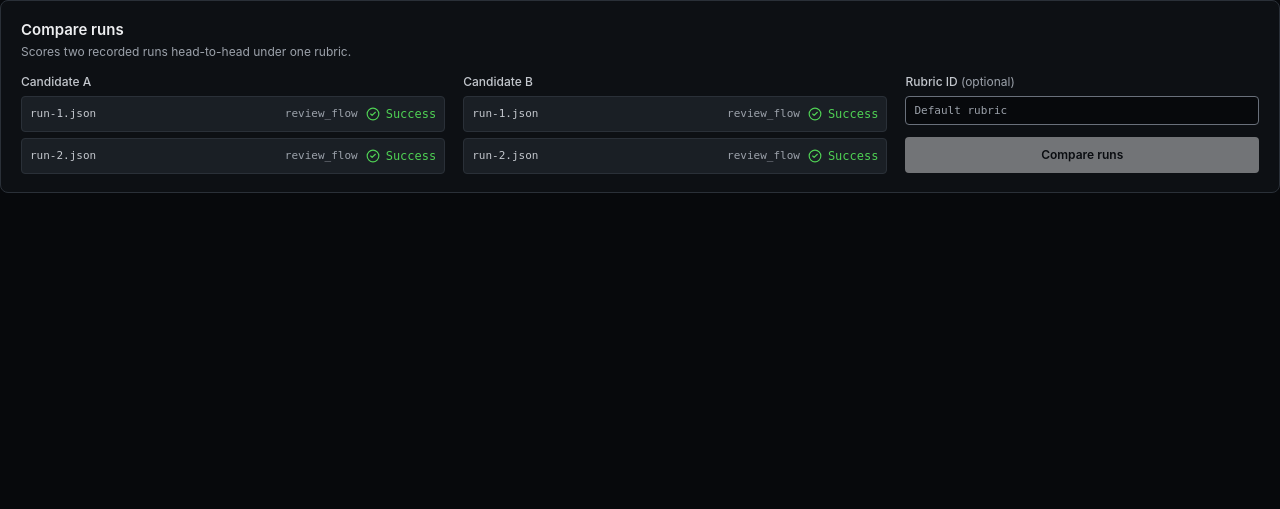
RunComparePanel › renders a tie with both candidates neutral
The width and height of the screenshot is (1280, 509).
Click the button with aria-label "pick run-1.json for candidate A": (63, 114) [21,96,445,132]
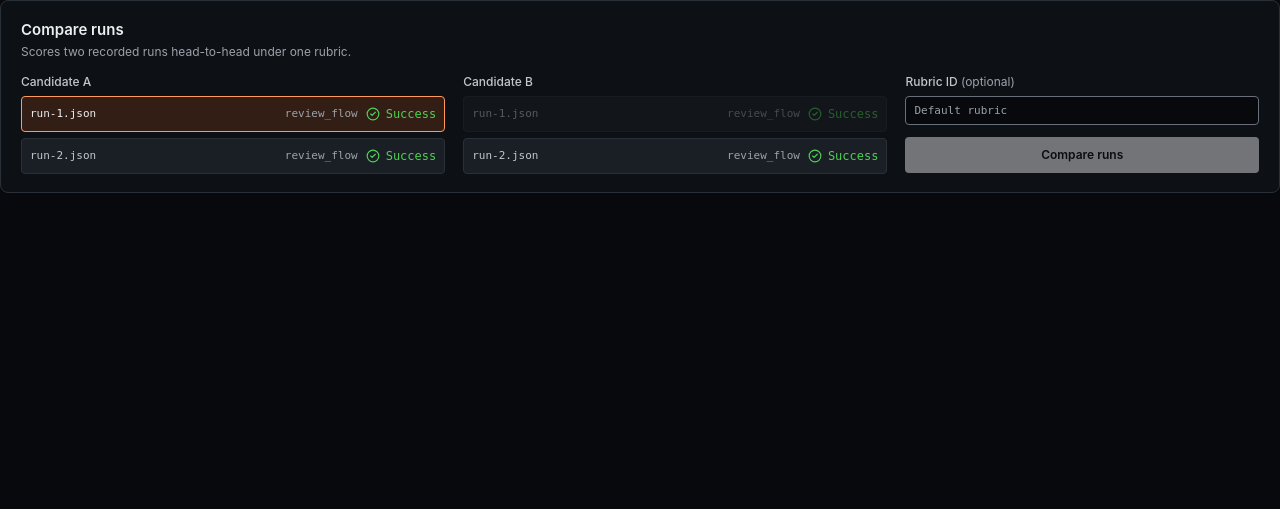
Click the button with aria-label "pick run-2.json for candidate B": (505, 156) [463,138,887,174]
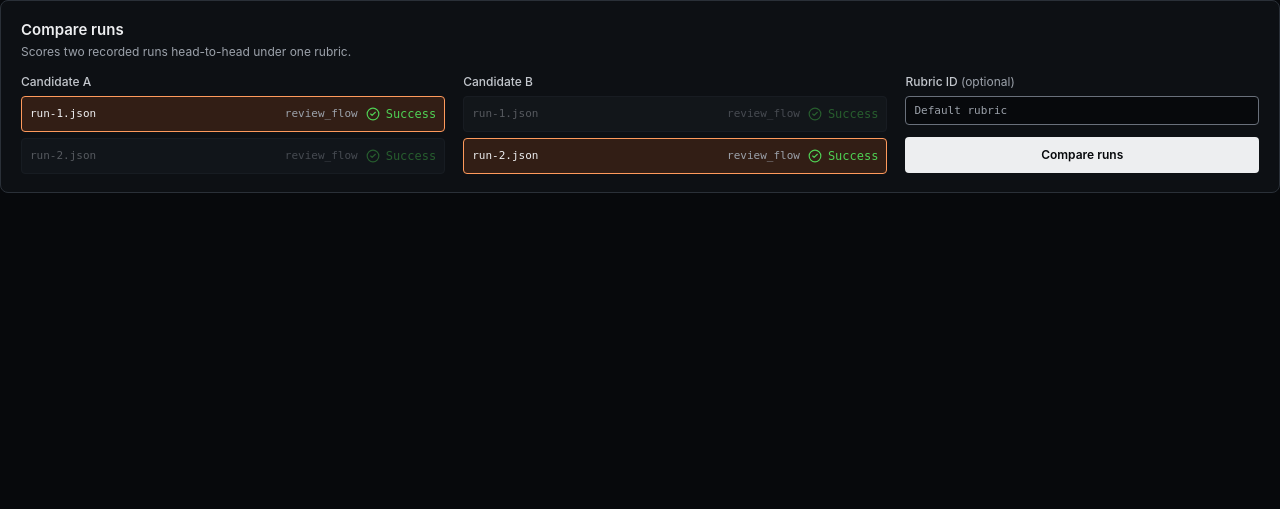
Click the button "Compare runs": (1082, 154) [906,136,1259,172]
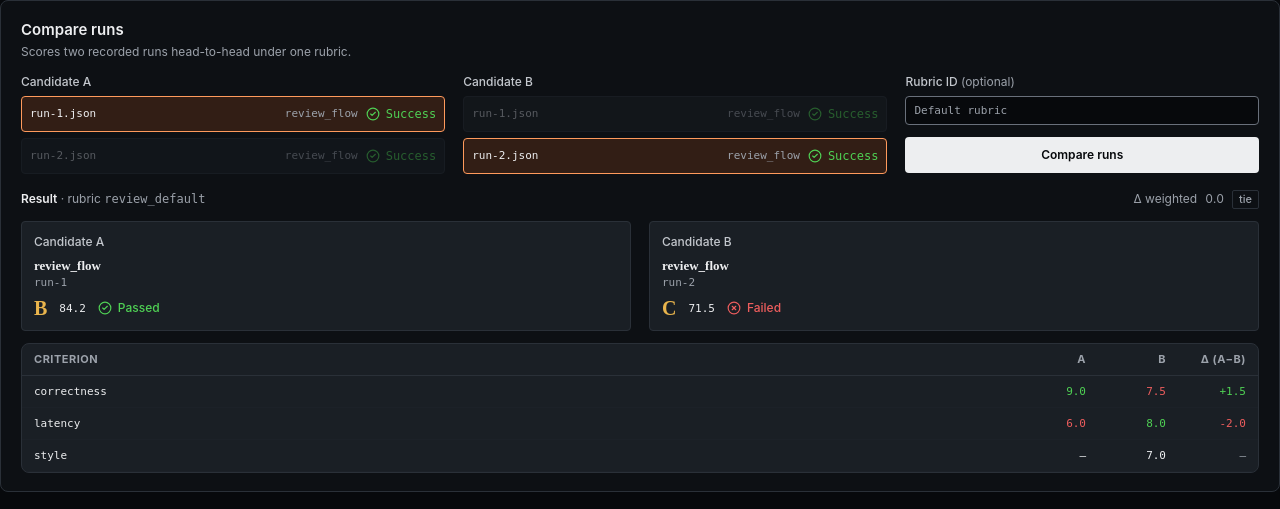
Result: the element with test id "compare-result" is shown at [21,190,1259,473]
Result: the text "tie" is shown at [1232,190,1259,208]
